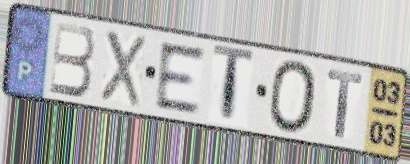B: (47, 20, 97, 100)
E: (154, 40, 207, 116)
O: (268, 58, 319, 136)
T: (211, 42, 257, 129), (326, 68, 365, 141)
X: (98, 27, 148, 110)
